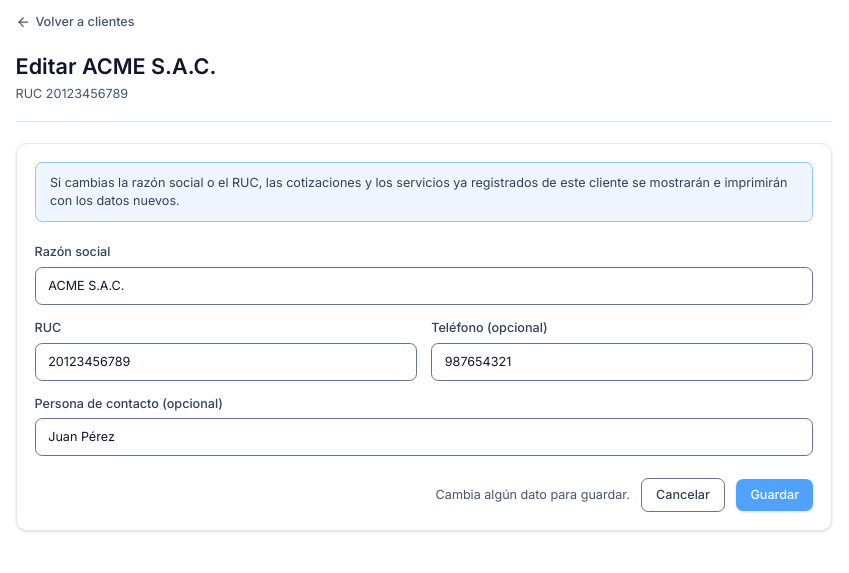
it: ClientEditPage › exige la razón social
Clear the field labelled "Razón social" at (424, 286), box [35,267,813,305]
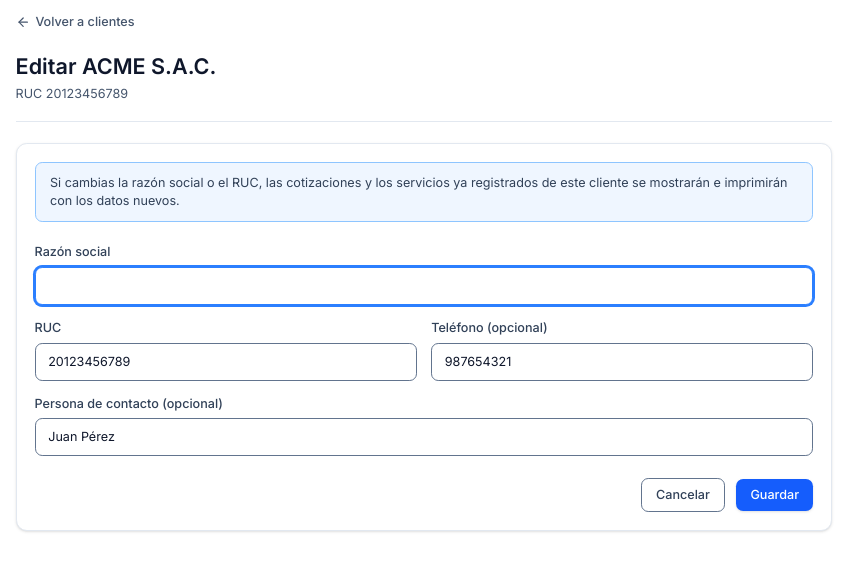
Click the button "Guardar" at (775, 495), box [736,479,813,511]
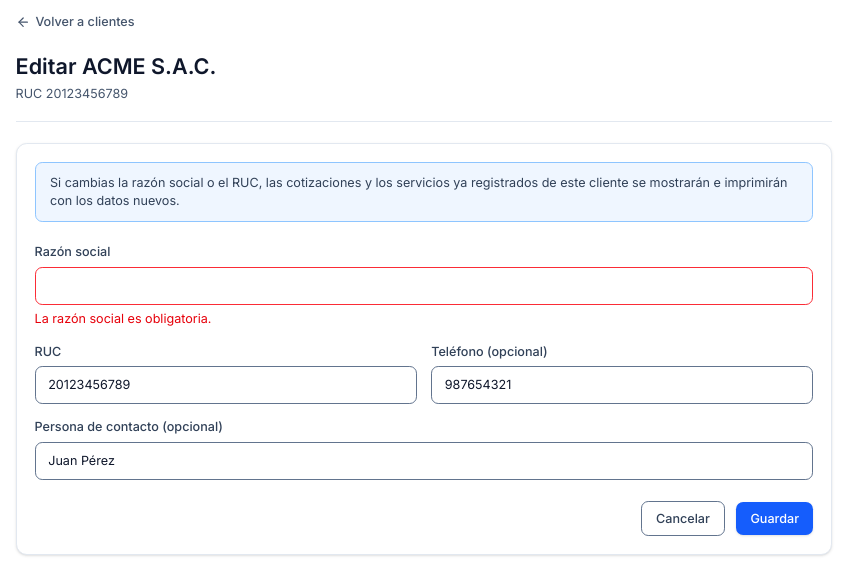
Now the text "La razón social es obligatoria." is shown, box [35,311,211,326]
